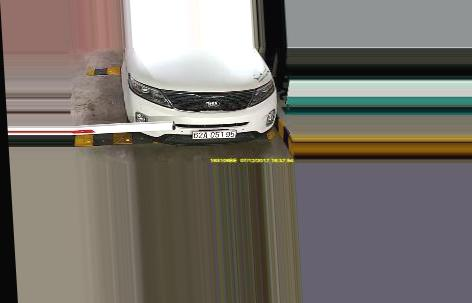License_Plate: (191, 128, 235, 139)
